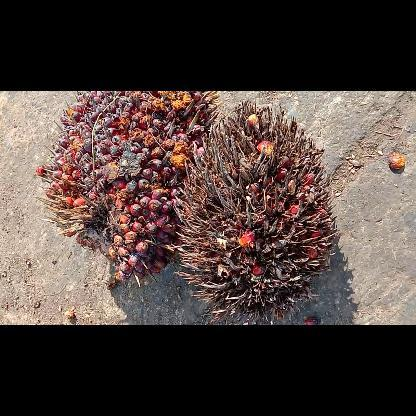TBS masak: (40, 91, 218, 285)
Terlalu masak: (174, 102, 336, 324)
